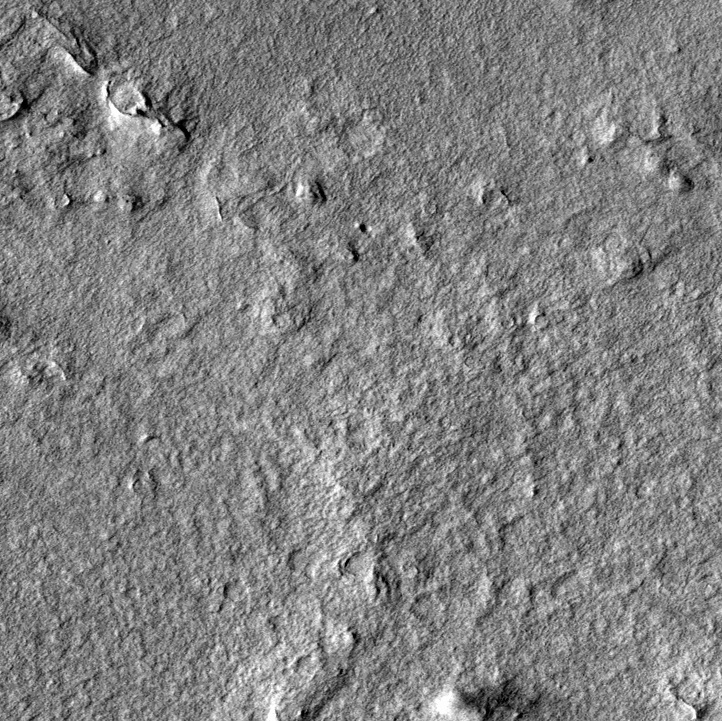dust_devil: (426, 673, 548, 719)
